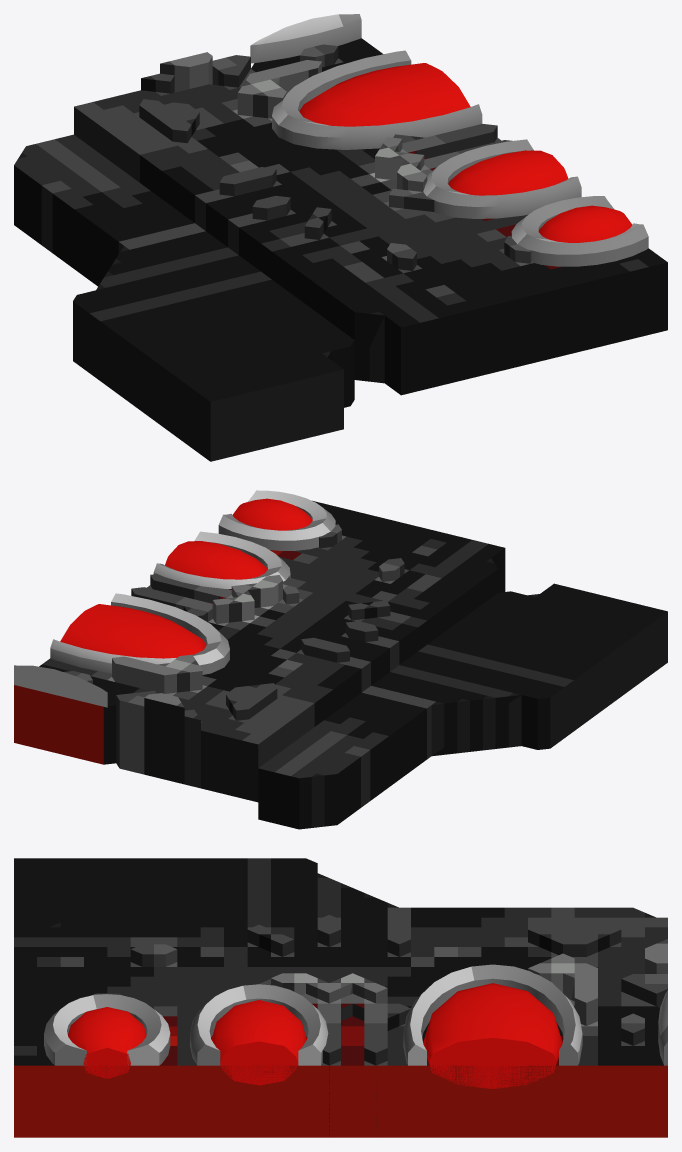
Rendered from ixm_boss_235.glb.
The picture shows the model from 3 angles, top to bottom: view 1: azimuth 30°, elevation 25°; view 2: azimuth 150°, elevation 25°; view 3: azimuth 270°, elevation 25°; orthographic projection. The views are drawn at different scales.
Parts seen in each view (by area): view 1: ixm_boss_235_mach_3_1, ixm_boss_235_mach_0_5, ixm_boss_235_lamp_dull0, ixm_boss_235_lamp_ring0, ixm_boss_235_lamp_ring1, ixm_boss_235_lamp_ring2, ixm_boss_235_lamp_dull1, ixm_boss_235_eye_ring, ixm_boss_235_mach_5_3, ixm_boss_235_lamp_dull2, ixm_boss_235_mach_4_16, ixm_boss_235_mach_5_4 (+8 smaller); view 2: ixm_boss_235_mach_0_5, ixm_boss_235_mach_3_1, ixm_boss_235_lamp_dull0, ixm_boss_235_lamp_ring0, ixm_boss_235_mach_5_2, ixm_boss_235_lamp_ring2, ixm_boss_235_lamp_dull1, ixm_boss_235_mach_5_3, ixm_boss_235_lamp_ring1, ixm_boss_235_mach_4_9, ixm_boss_235_mach_4_16, ixm_boss_235_eye_ring (+8 smaller); view 3: ixm_boss_235_mach_3_1, ixm_boss_235_mach_0_5, ixm_boss_235_lamp_dull0, ixm_boss_235_lamp_dull1, ixm_boss_235_lamp_ring0, ixm_boss_235_lamp_ring1, ixm_boss_235_lamp_ring2, ixm_boss_235_lamp_dull2, ixm_boss_235_mach_4_16, ixm_boss_235_mach_5_3, ixm_boss_235_mach_4_12, ixm_boss_235_mach_5_4 (+8 smaller).
Part boxes in pixels (x1,y1,x2,y2): ixm_boss_235_mach_3_1: (74, 38, 667, 395); ixm_boss_235_mach_0_5: (14, 134, 354, 461); ixm_boss_235_lamp_dull0: (299, 63, 470, 126); ixm_boss_235_lamp_ring0: (272, 50, 482, 149); ixm_boss_235_lamp_ring1: (423, 139, 581, 218); ixm_boss_235_lamp_ring2: (511, 196, 648, 266); ixm_boss_235_lamp_dull1: (448, 150, 568, 195); ixm_boss_235_eye_ring: (250, 14, 361, 63); ixm_boss_235_mach_5_3: (237, 60, 321, 118); ixm_boss_235_lamp_dull2: (538, 205, 632, 242); ixm_boss_235_mach_4_16: (393, 124, 512, 175); ixm_boss_235_mach_5_4: (375, 137, 427, 191); ixm_boss_235_mach_0_5: (258, 583, 667, 829); ixm_boss_235_mach_3_1: (14, 500, 505, 802); ixm_boss_235_lamp_dull0: (60, 604, 206, 658); ixm_boss_235_lamp_ring0: (50, 593, 229, 674); ixm_boss_235_mach_5_2: (144, 693, 184, 784); ixm_boss_235_lamp_ring2: (218, 490, 335, 550); ixm_boss_235_lamp_dull1: (165, 541, 267, 579); ixm_boss_235_mach_5_3: (112, 654, 202, 693); ixm_boss_235_lamp_ring1: (153, 531, 290, 589); ixm_boss_235_mach_4_9: (116, 690, 156, 774); ixm_boss_235_mach_4_16: (131, 574, 233, 622); ixm_boss_235_eye_ring: (14, 665, 107, 707); ixm_boss_235_mach_3_1: (14, 917, 667, 1137); ixm_boss_235_mach_0_5: (14, 858, 655, 927); ixm_boss_235_lamp_dull0: (423, 983, 562, 1088); ixm_boss_235_lamp_dull1: (211, 1000, 306, 1085); ixm_boss_235_lamp_ring0: (403, 964, 582, 1065); ixm_boss_235_lamp_ring1: (190, 984, 328, 1065); ixm_boss_235_lamp_ring2: (44, 994, 170, 1065); ixm_boss_235_lamp_dull2: (68, 1007, 146, 1078); ixm_boss_235_mach_4_16: (302, 993, 410, 1134); ixm_boss_235_mach_5_3: (528, 953, 597, 1025); ixm_boss_235_mach_4_12: (528, 924, 621, 956); ixm_boss_235_mach_5_4: (271, 973, 387, 1003).
Bounding box in the file's own units: 23.98 × 5.9 × 27.98.
